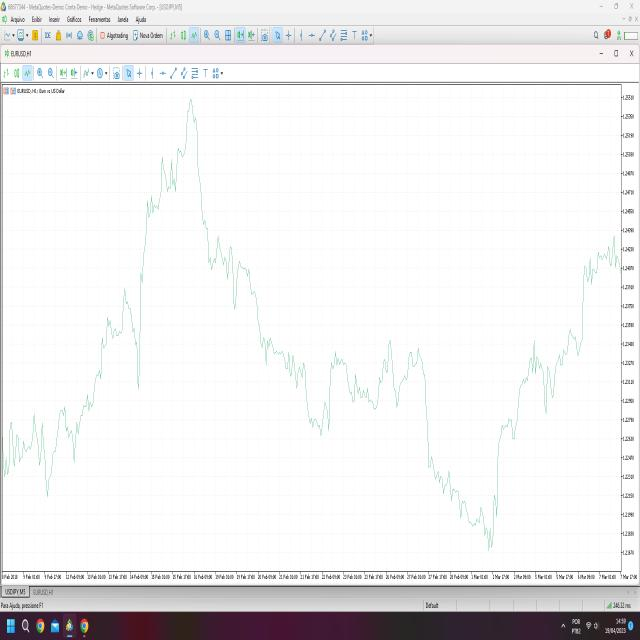bandeira_alta: (136, 185, 165, 352), (574, 247, 609, 363)
bandeira_baixa: (193, 156, 246, 315)
